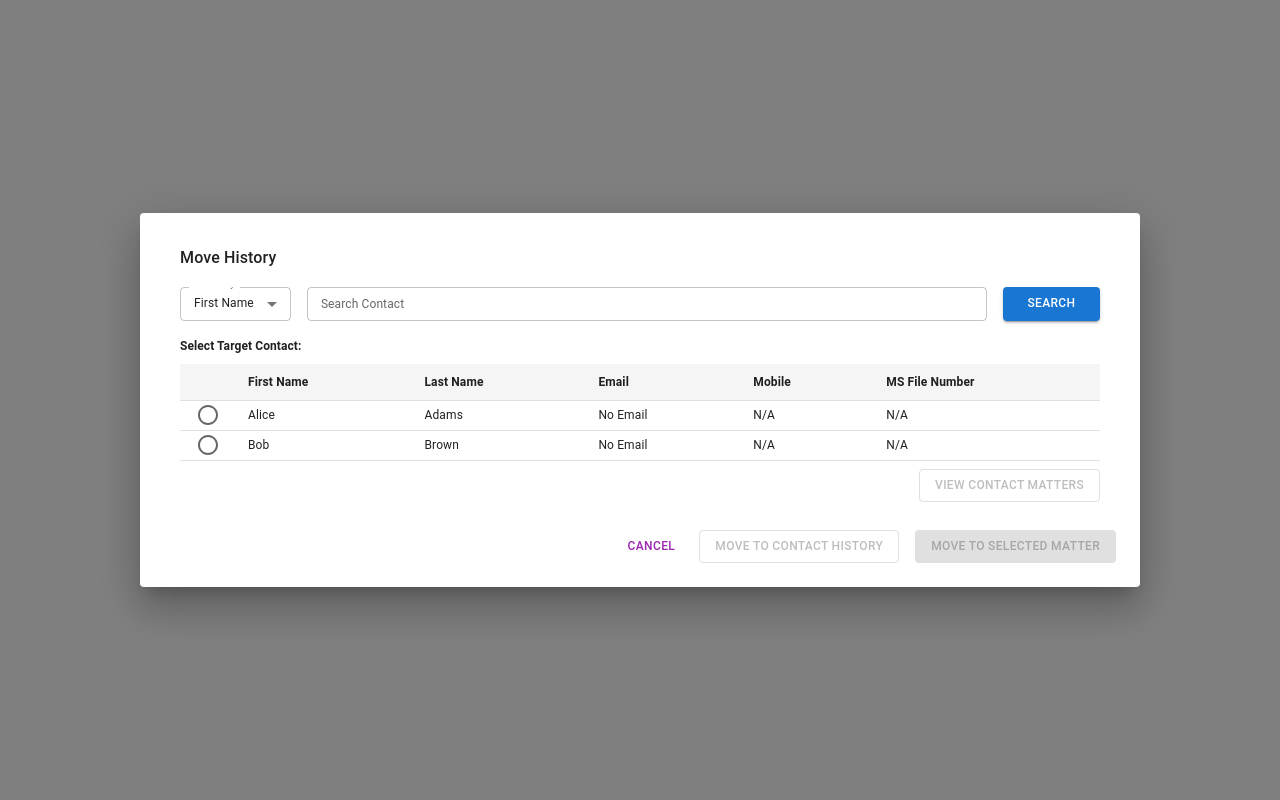
Test: ContactDialog Matter destinations › clears loaded Matters when another Contact is selected
Click the text "Alice" at [320, 415], box [232,400,408,430]
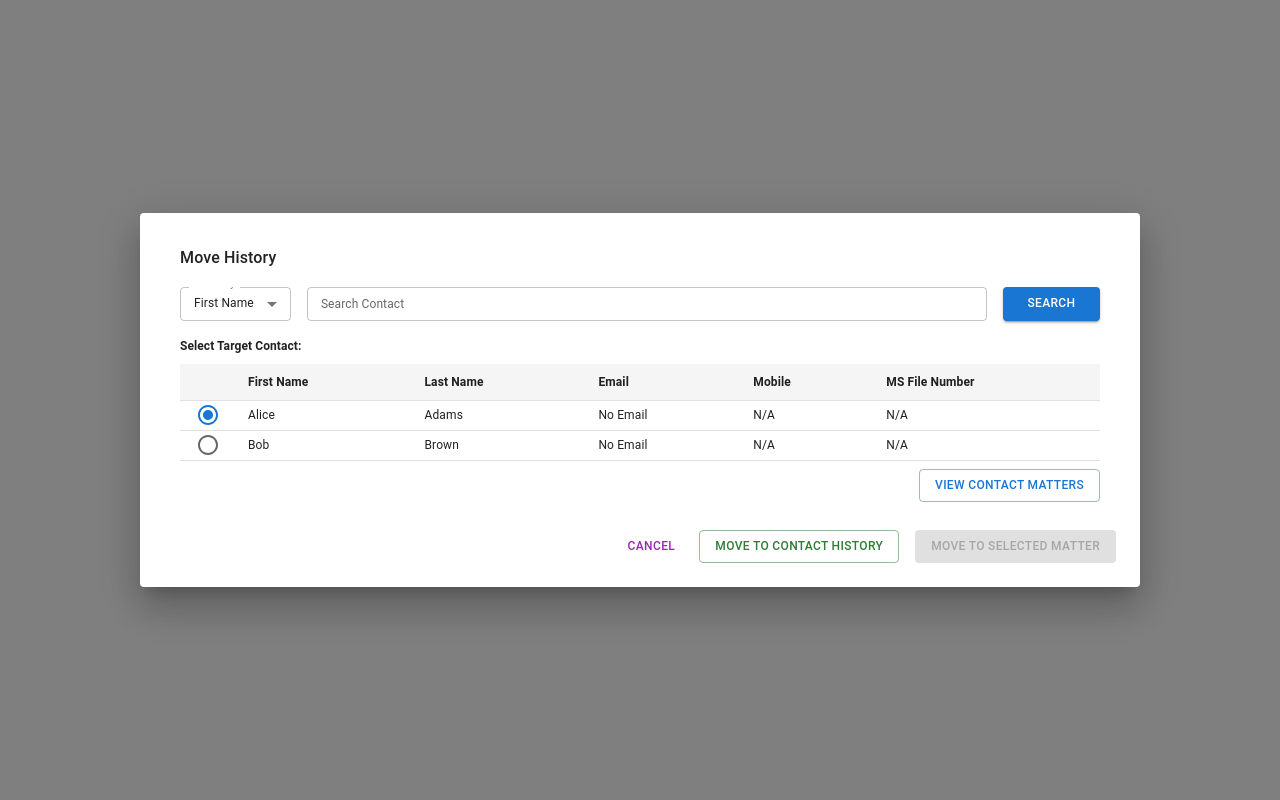
Click the button "View Contact Matters" at [1010, 486], box [919,469,1100,502]
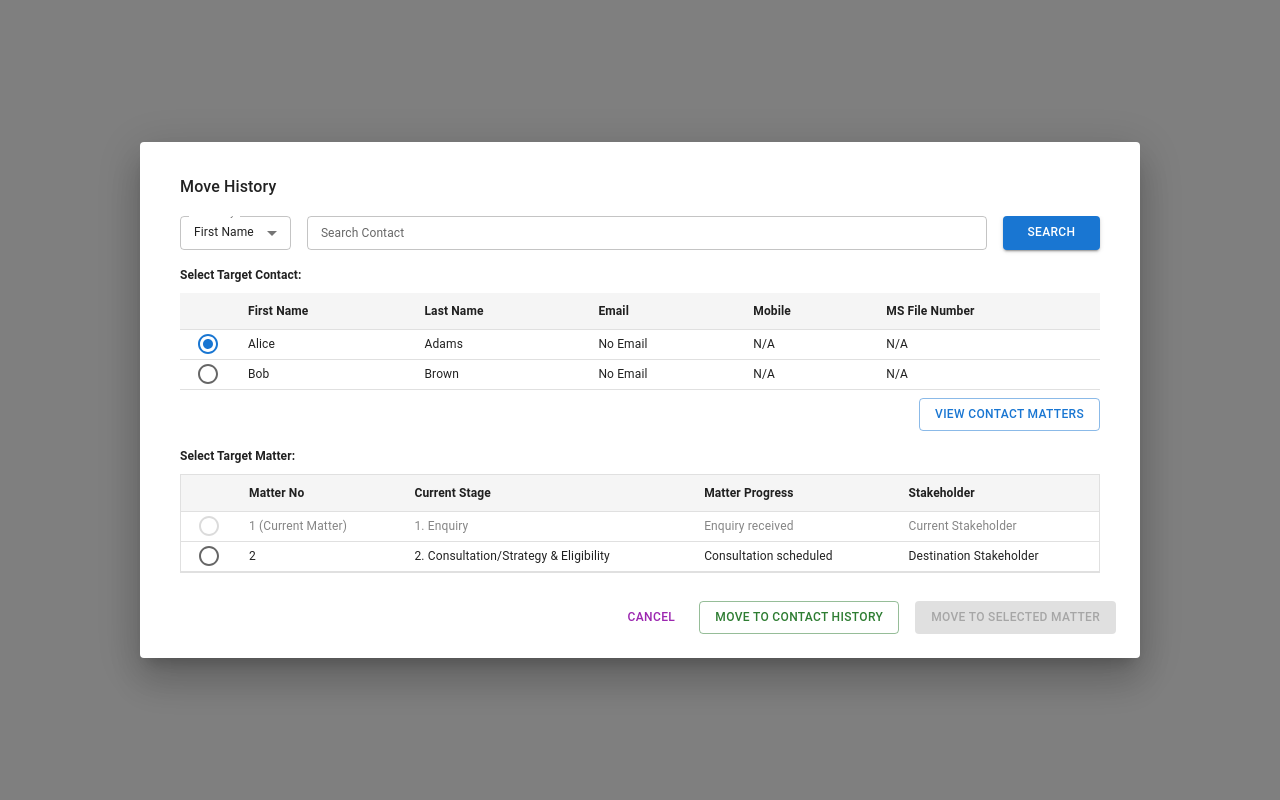
Check: the heading "Select Target Matter:" is shown, box [180,449,295,463]
Click the text "Bob" at [320, 374], box [232,359,408,390]
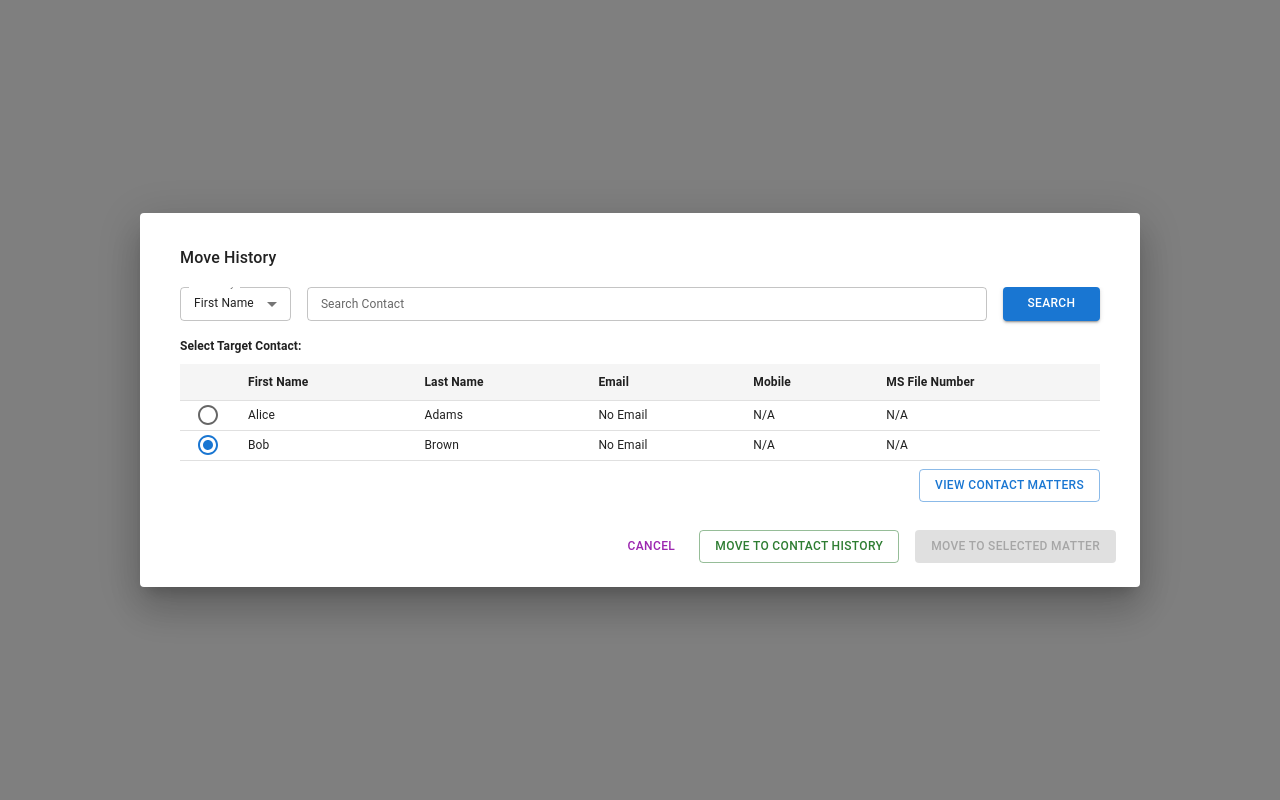
Check: the button "Move to Selected Matter" is disabled, box [915,530,1116,563]
Check: the heading "Select Target Matter:" is gone
